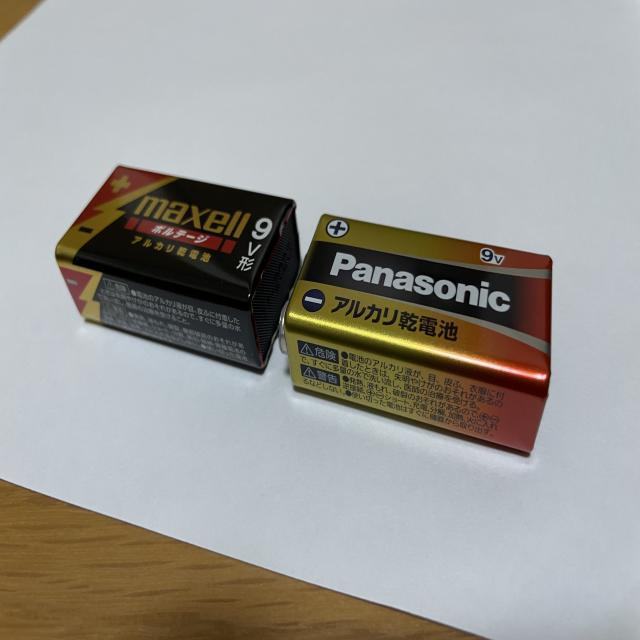9V: (277, 211, 554, 460), (53, 163, 303, 372)
